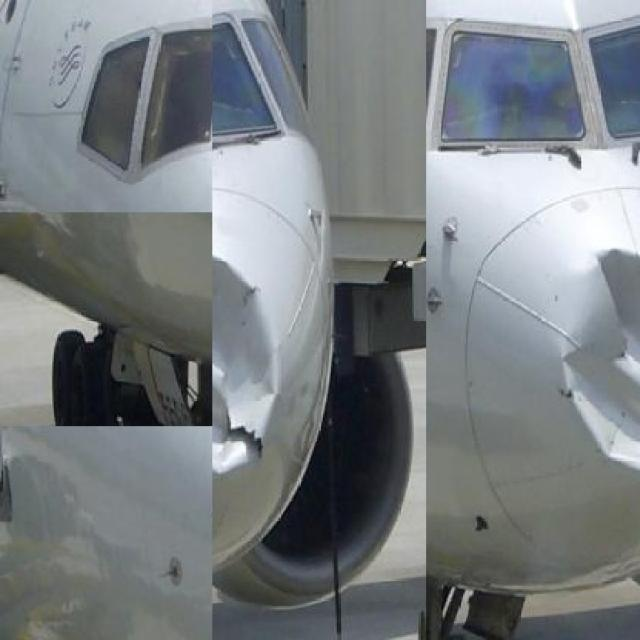dent: (561, 244, 640, 469), (212, 255, 280, 480)
